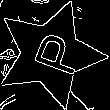P_W: (19, 28, 82, 80)
